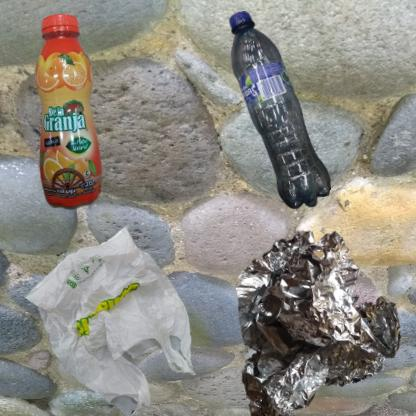aluminio: (213, 213, 416, 416)
bolsa: (10, 213, 215, 416)
botella: (10, 10, 141, 236), (213, 10, 349, 219)
